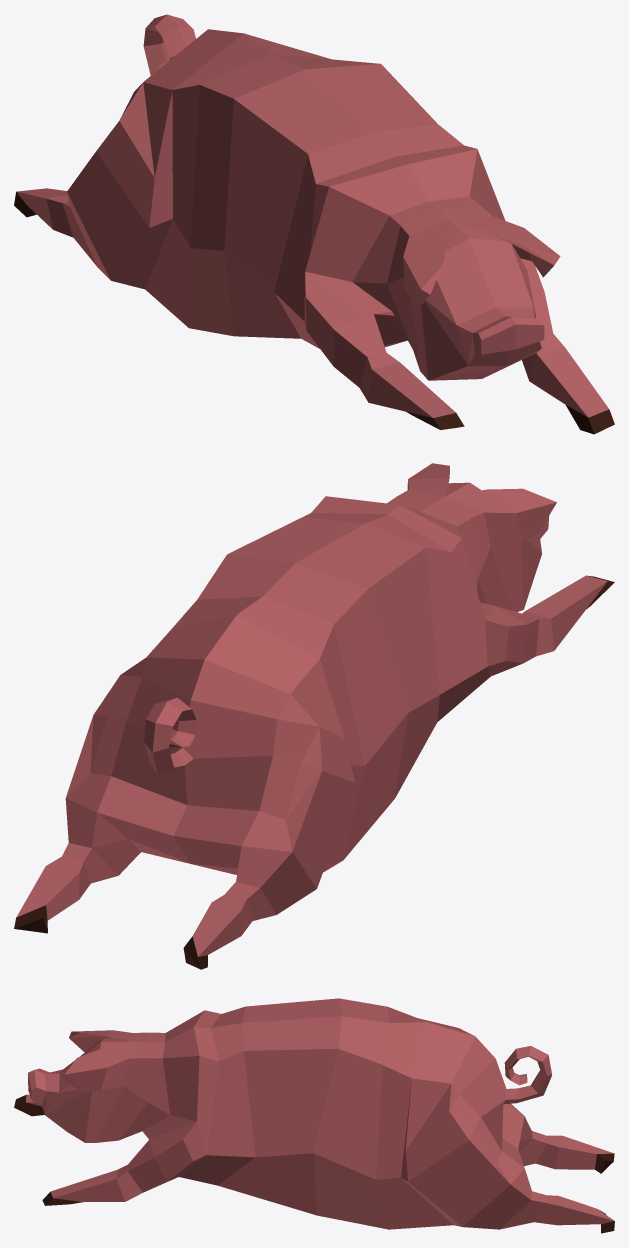
File: Pig_000012.obj
3 renders of one model, top to bottom at view 1: azimuth 30°, elevation 25°; view 2: azimuth 150°, elevation 25°; view 3: azimuth 270°, elevation 25°, orthographic. The views are drawn at different scales.
Parts seen in each view (by area): view 1: Pig_Cylinder; view 2: Pig_Cylinder; view 3: Pig_Cylinder.
Boxes of the visible parts, box(x1,y1,x2,y2) form: Pig_Cylinder: box(14, 14, 614, 434); Pig_Cylinder: box(14, 463, 614, 969); Pig_Cylinder: box(14, 998, 614, 1233).
Size of the model in its own units: 3.3 by 3.61 by 10.4.
